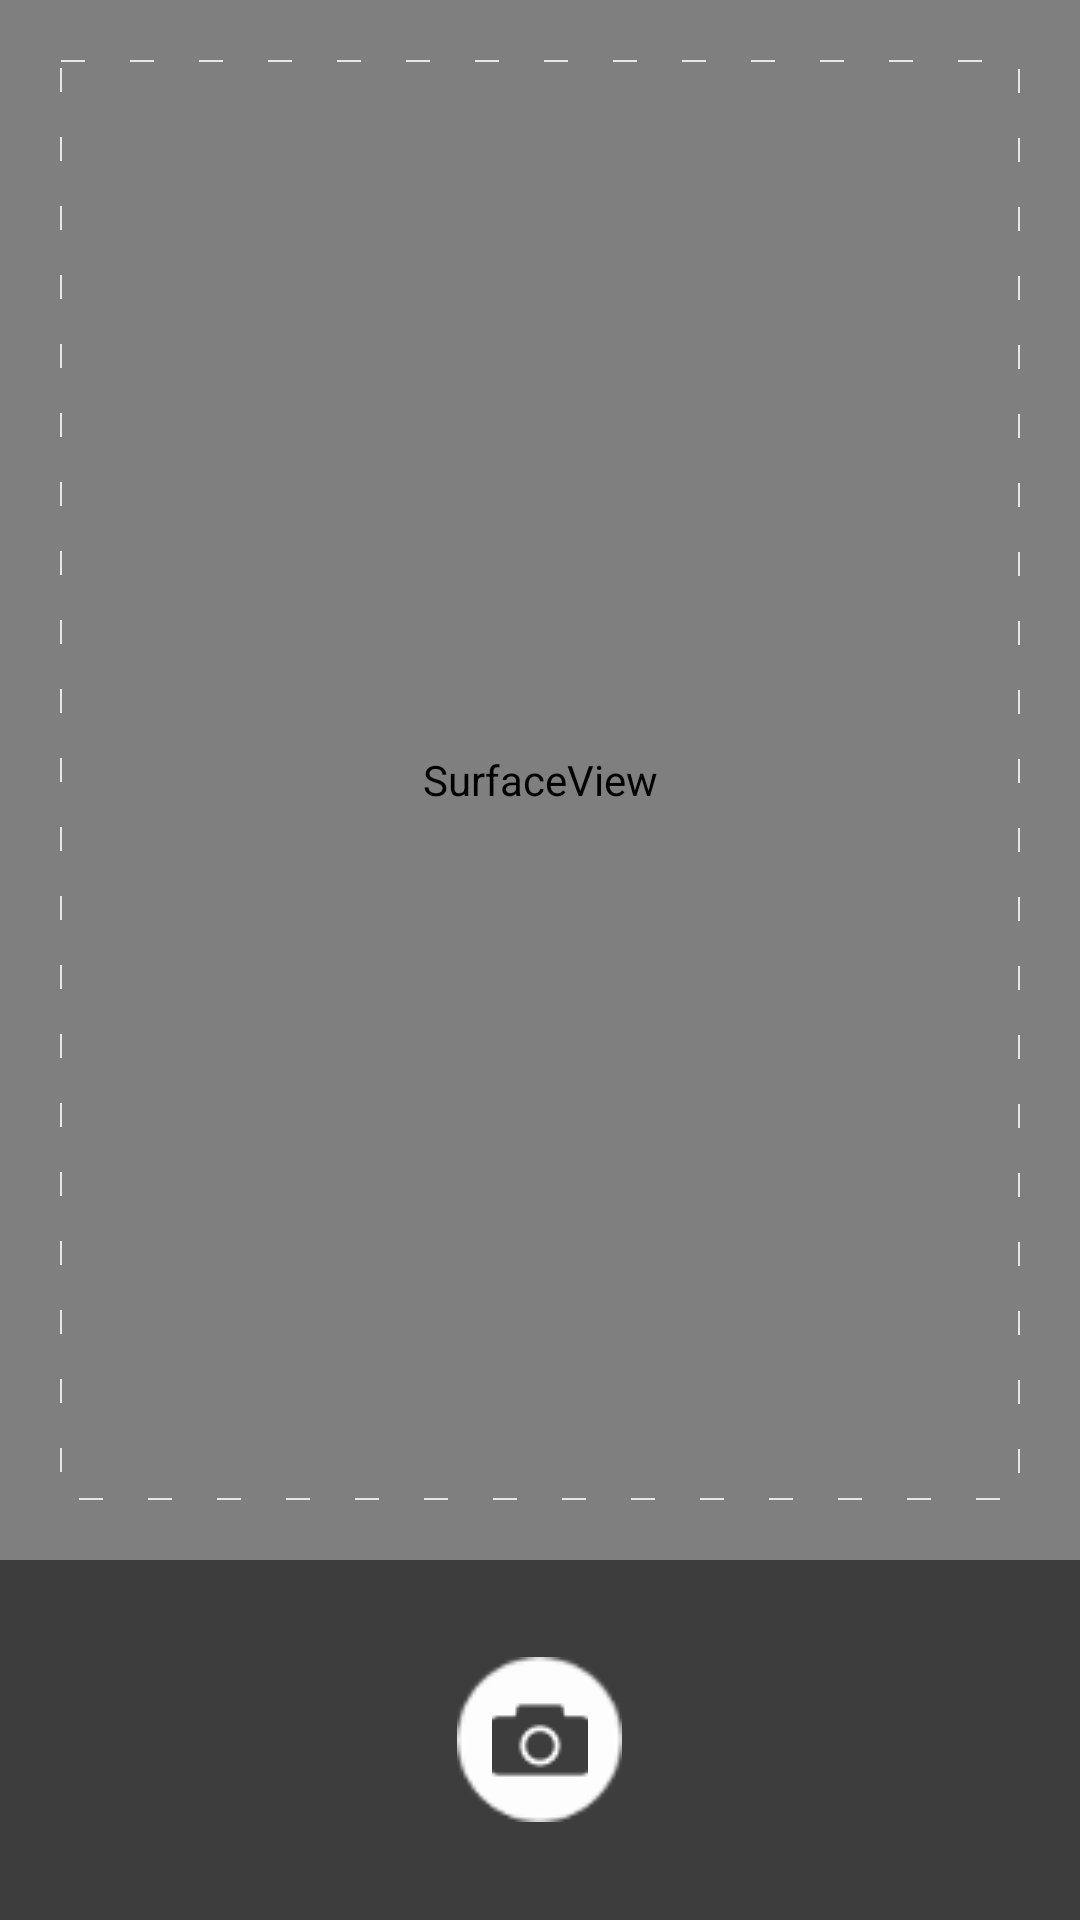

Screen size 1080x1920. Icon name, then its center in pixels as point (x, y):
camera: point (539, 1739)
